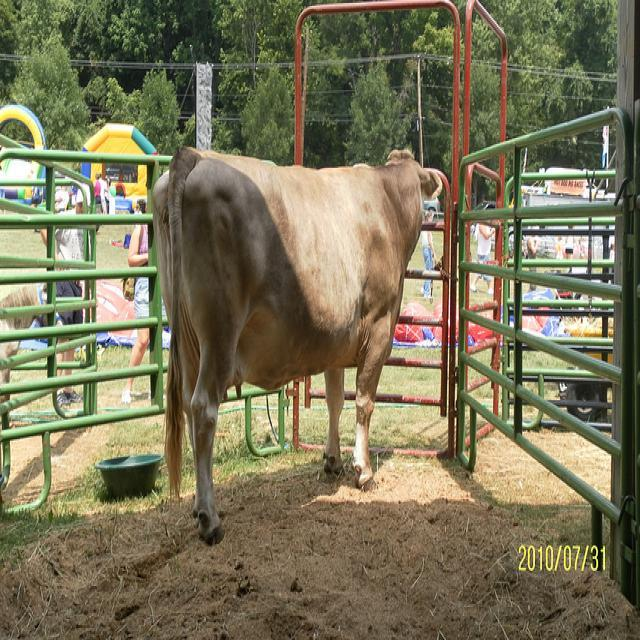cow: (150, 144, 441, 544)
